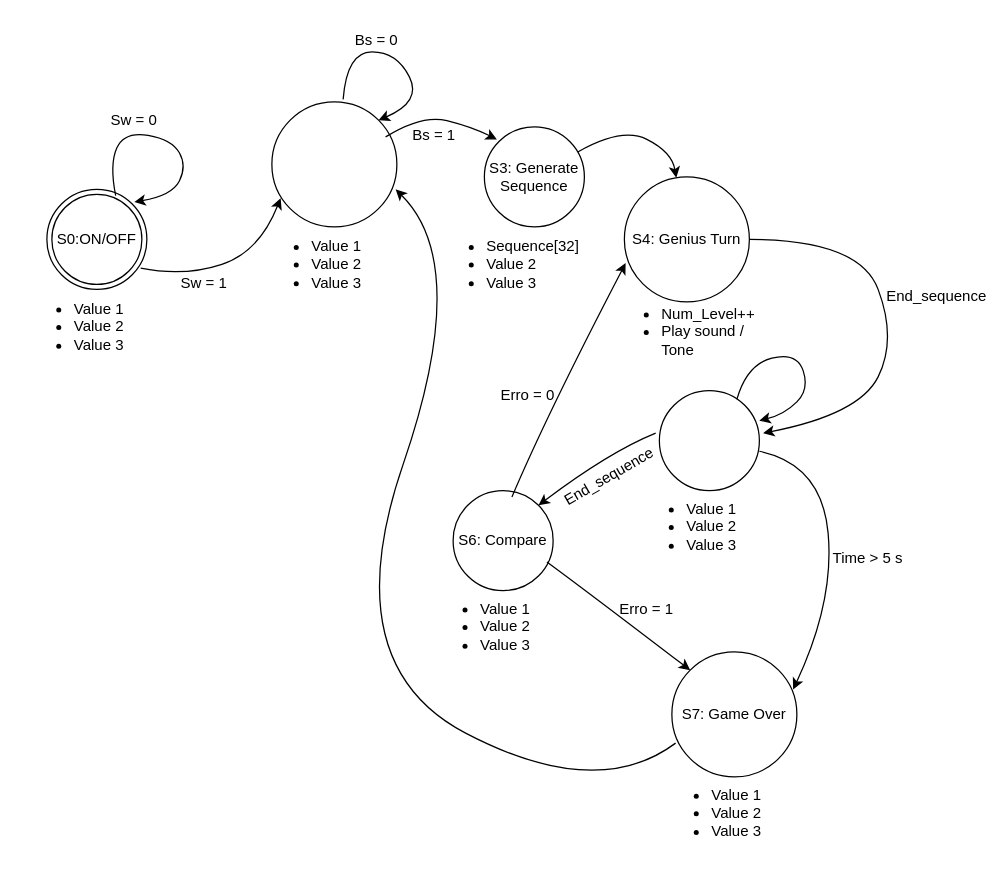
Image size: 1008x884. Some labels were removed from this diagram. The box of each missing label's shape, as (x1, y1, x2, y2) in pixels:
S1: Game Start: (271, 101, 397, 227)
S5: Read Button: (658, 389, 759, 491)
